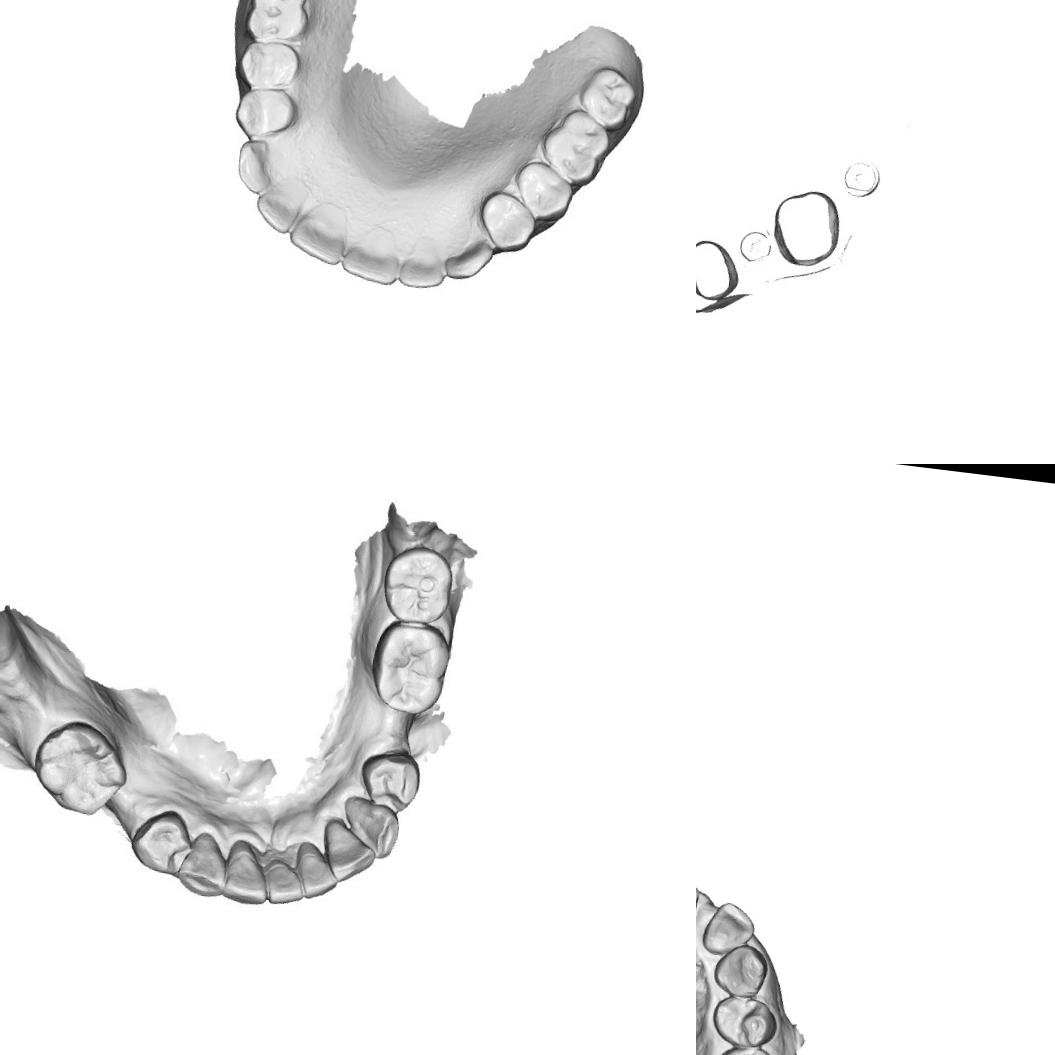canine: (338, 788, 400, 860), (710, 940, 773, 1002), (174, 832, 226, 901), (235, 137, 286, 196), (444, 232, 493, 284)
incisor: (284, 838, 344, 903), (314, 822, 376, 884), (699, 899, 759, 960), (339, 231, 401, 285), (260, 850, 310, 914), (218, 848, 268, 911), (293, 210, 344, 264), (254, 182, 308, 232), (398, 244, 444, 288)
molar: (26, 713, 135, 825), (367, 616, 454, 717), (376, 541, 460, 632), (543, 108, 610, 180), (584, 68, 634, 122), (250, 0, 309, 41)
premolar: (125, 801, 196, 878), (706, 990, 780, 1052), (514, 161, 579, 225), (360, 748, 418, 810), (483, 192, 535, 250), (234, 88, 296, 134), (244, 43, 298, 94), (709, 1042, 781, 1055)
